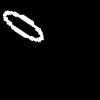chain: (3, 11, 42, 41)
